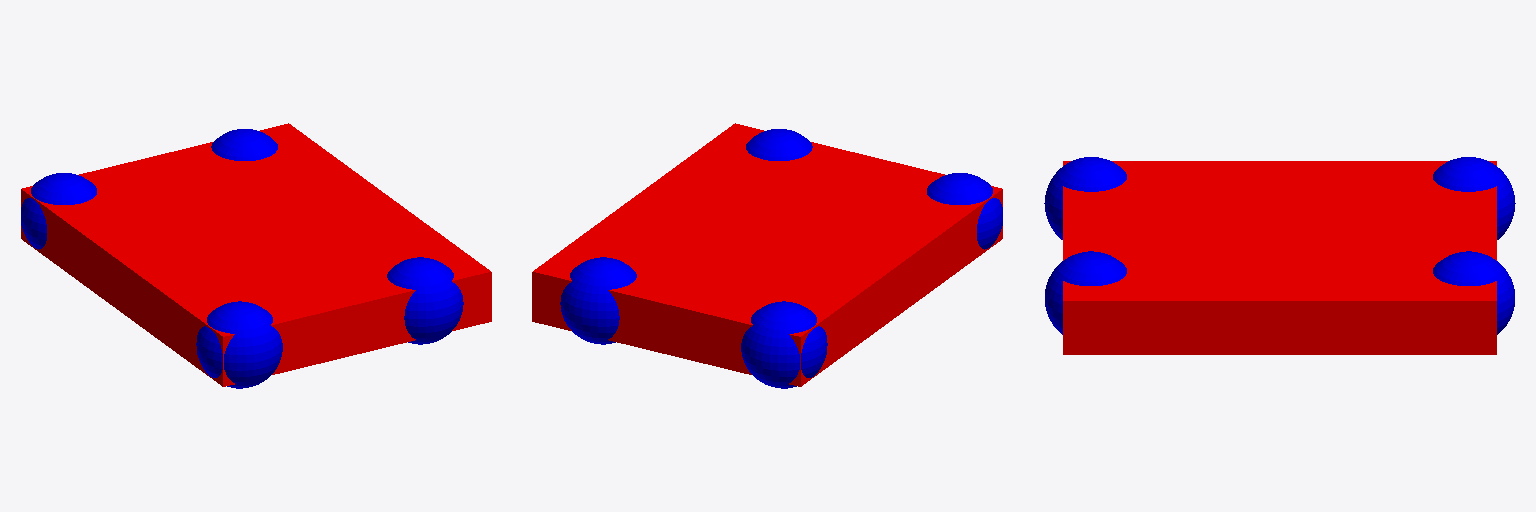
URDF robot description (main_bot):
<?xml version="1.0"?>
<robot name="main_bot">
    <material name="red">
        <color rgba="1.0 0.0 0.0 1.0"/>
    </material>
    <material name="blue">
        <color rgba="0.0 0.0 1.0 1.0"/>
    </material>

    <link name="base_link">
        <inertial>
            <origin xyz="-0.05798199 0 0" rpy="0 0 0" />
            <mass value="1.000063"/>
            <inertia ixx="0.004614136" ixy="0" ixz="0" iyy="0.007420513" iyz="0" izz="0.003253288" />
        </inertial>
        <visual>
            <origin xyz="-0.04624488 0.0 0.0"/>
            <geometry>
                <box size="0.1620354 0.212 0.029"/>
            </geometry>
            <material name="red"/>
        </visual>
        <collision>
            <origin xyz="-0.04624488 0.0 0.0"/>
            <geometry>
                <box size="0.1620354 0.212 0.029"/>
            </geometry>
        </collision>
    </link>

    <link name="wheel_front_left">
        <inertial>
            <mass value="0.02446162"/>
            <inertia ixx="4.25606e-06" ixy="0" ixz="0" iyy="8.69638e-06" iyz="0" izz="8.69431e-06" />
        </inertial>
        <visual>
            <geometry>
                <sphere radius="0.02285709"/>
            </geometry>
            <material name="blue"/>
        </visual>
        <collision>
            <geometry>
                <sphere radius="0.02285709"/>
            </geometry>
        </collision>
    </link>

    <link name="wheel_back_left">
        <inertial>
            <mass value="0.02446162"/>
            <inertia ixx="4.25606e-06" ixy="0" ixz="0" iyy="8.69638e-06" iyz="0" izz="8.69431e-06" />
        </inertial>
        <visual>
            <geometry>
                <sphere radius="0.02285709"/>
            </geometry>
            <material name="blue"/>
        </visual>
        <collision>
            <geometry>
                <sphere radius="0.02285709"/>
            </geometry>
        </collision>
    </link>

    <link name="wheel_back_right">
        <inertial>
            <mass value="0.02446162"/>
            <inertia ixx="4.25606e-06" ixy="0" ixz="0" iyy="8.69638e-06" iyz="0" izz="8.69431e-06" />
        </inertial>
        <visual>
            <geometry>
                <sphere radius="0.02285709"/>
            </geometry>
            <material name="blue"/>
        </visual>
        <collision>
            <geometry>
                <sphere radius="0.02285709"/>
            </geometry>
        </collision>
    </link>

    <link name="wheel_front_right">
        <inertial>
            <mass value="0.02446162"/>
            <inertia ixx="4.25606e-06" ixy="0" ixz="0" iyy="8.69638e-06" iyz="0" izz="8.69431e-06" />
        </inertial>
        <visual>
            <geometry>
                <sphere radius="0.02285709"/>
            </geometry>
            <material name="blue"/>
        </visual>
        <collision>
            <geometry>
                <sphere radius="0.02285709"/>
            </geometry>
        </collision>
    </link>

    <joint name="wheel_front_left_joint" type="revolute">
        <parent link="base_link"/>
        <child link="wheel_front_left"/>
        <origin xyz="0.0 0.09205103 0.0" rpy="0 0 -1.570796"/>
        <axis xyz="1 0 0"/>
    </joint>

    <joint name="wheel_back_left_joint" type="revolute">
        <parent link="base_link"/>
        <child link="wheel_back_left"/>
        <origin xyz="-0.10922 0.09205103 0.0" rpy="0 0 -1.570796"/>
        <axis xyz="1 0 0"/>
    </joint>

    <joint name="wheel_back_right_joint" type="revolute">
        <parent link="base_link"/>
        <child link="wheel_back_right"/>
        <origin xyz="-0.10922 -0.09205103 0.0" rpy="0 0 -1.570796"/>
        <axis xyz="1 0 0"/>
    </joint>

    <joint name="wheel_front_right_joint" type="revolute">
        <parent link="base_link"/>
        <child link="wheel_front_right"/>
        <origin xyz="0.0 -0.09205103 0.0" rpy="0 0 -1.570796"/>
        <axis xyz="1 0 0"/>
    </joint>

</robot>

--- What the picture shows (computed from the rendered views, not written in the file) ---
Views: 3 orthographic renders of the robot side by side, from view 1: azimuth 30°, elevation 25°; view 2: azimuth 150°, elevation 25°; view 3: azimuth 270°, elevation 25°.
Robot: main_bot — 5 links, 4 joints (4 revolute); root link base_link; default pose: every joint at zero.
Visible links, largest first — view 1: base_link, wheel_back_right, wheel_front_right, wheel_back_left, wheel_front_left; view 2: base_link, wheel_back_left, wheel_front_left, wheel_back_right, wheel_front_right; view 3: base_link, wheel_back_left, wheel_back_right, wheel_front_left, wheel_front_right.
Boxes of the visible links, x1,y1,x2,y2 form: base_link: (21,123,491,386); wheel_back_right: (196,301,282,388); wheel_front_right: (387,257,463,344); wheel_back_left: (21,173,96,249); wheel_front_left: (211,129,277,160); base_link: (532,123,1002,386); wheel_back_left: (741,301,827,388); wheel_front_left: (560,257,636,344); wheel_back_right: (927,173,1002,249); wheel_front_right: (746,129,812,160); base_link: (1063,161,1496,354); wheel_back_left: (1433,157,1515,239); wheel_back_right: (1044,157,1126,239); wheel_front_left: (1433,251,1514,334); wheel_front_right: (1045,251,1126,334).
Size in the robot's own frame: 0.1668 by 0.2298 by 0.0457 metres.
Geometry: primitives only (box / cylinder / sphere), no mesh files.